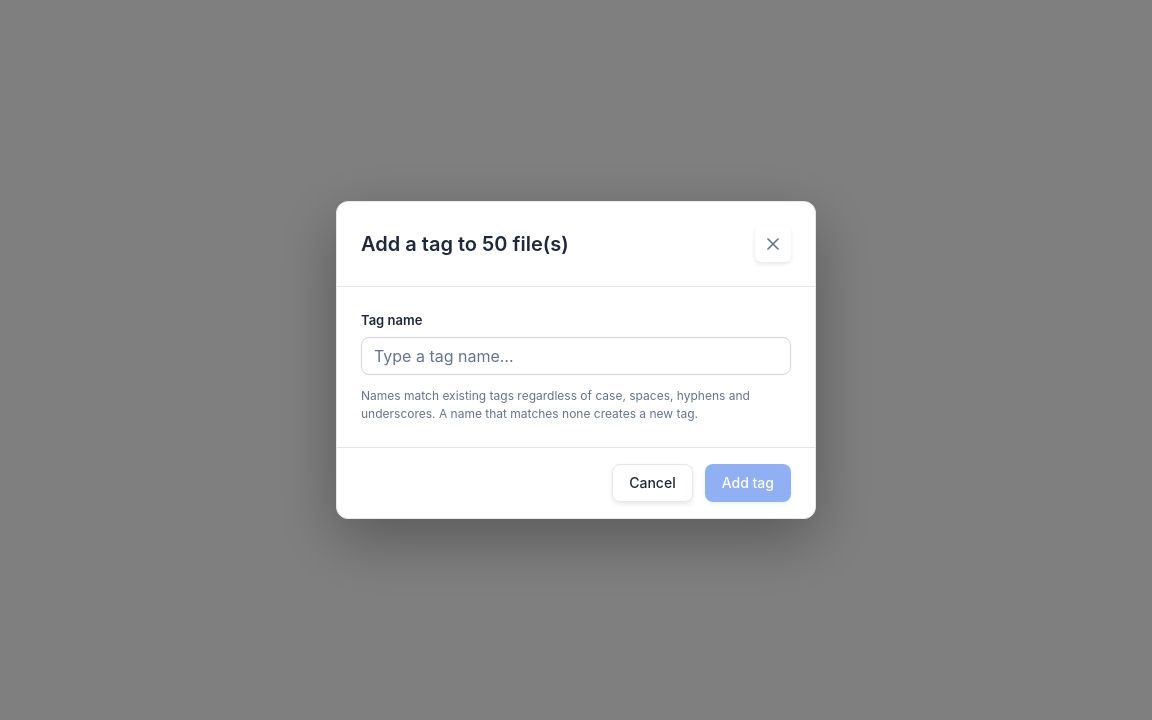
BulkTagModal › surfaces a per-file failure without implying the whole batch failed
Type "interview" into the dropdown.
click(576, 356); type("interview")  # box [361,337,791,375]
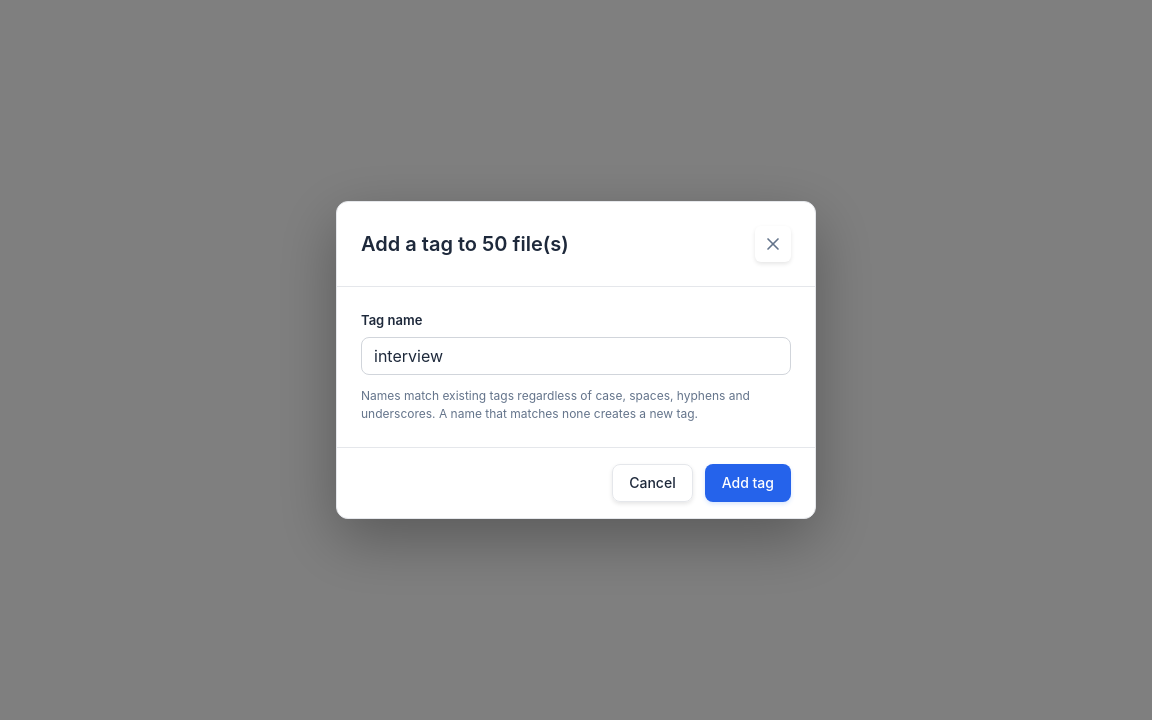
Click the button "Add tag".
click(748, 483)  # box [705,464,791,502]
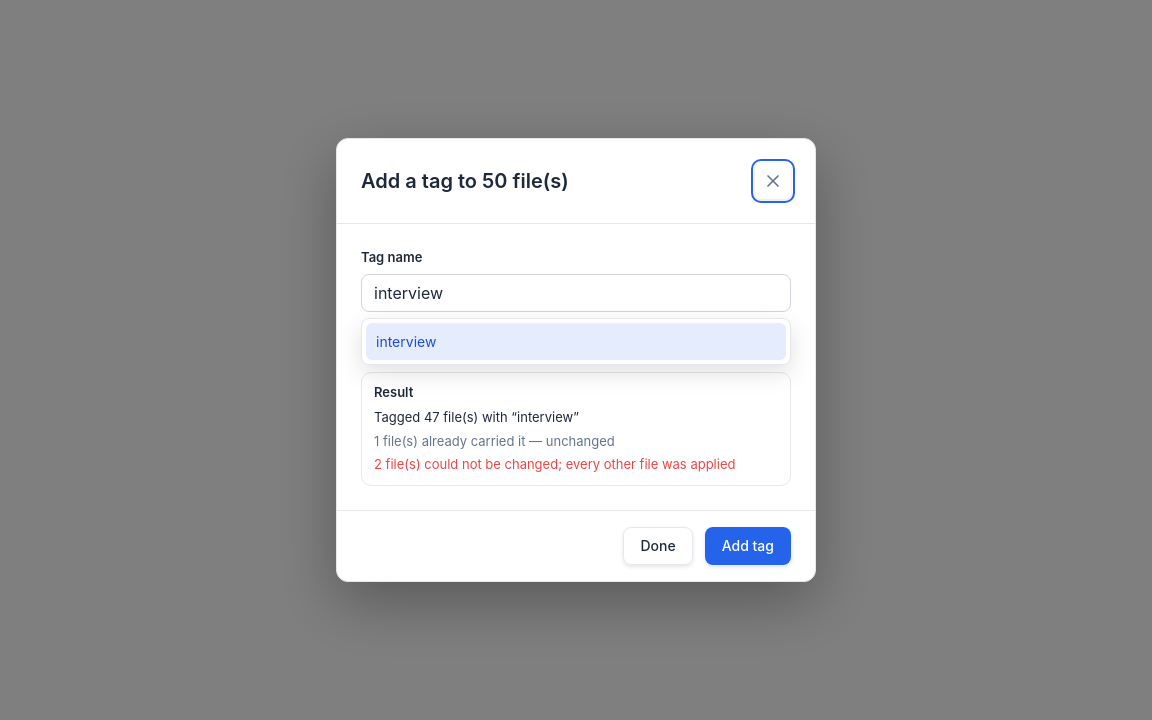
Check: the list item "2 file(s) could not be changed; every other file was applied" is shown, box [374,455,778,475]
Check: the list item "Tagged 47 file(s) with “interview”" is shown, box [374,409,579,425]
